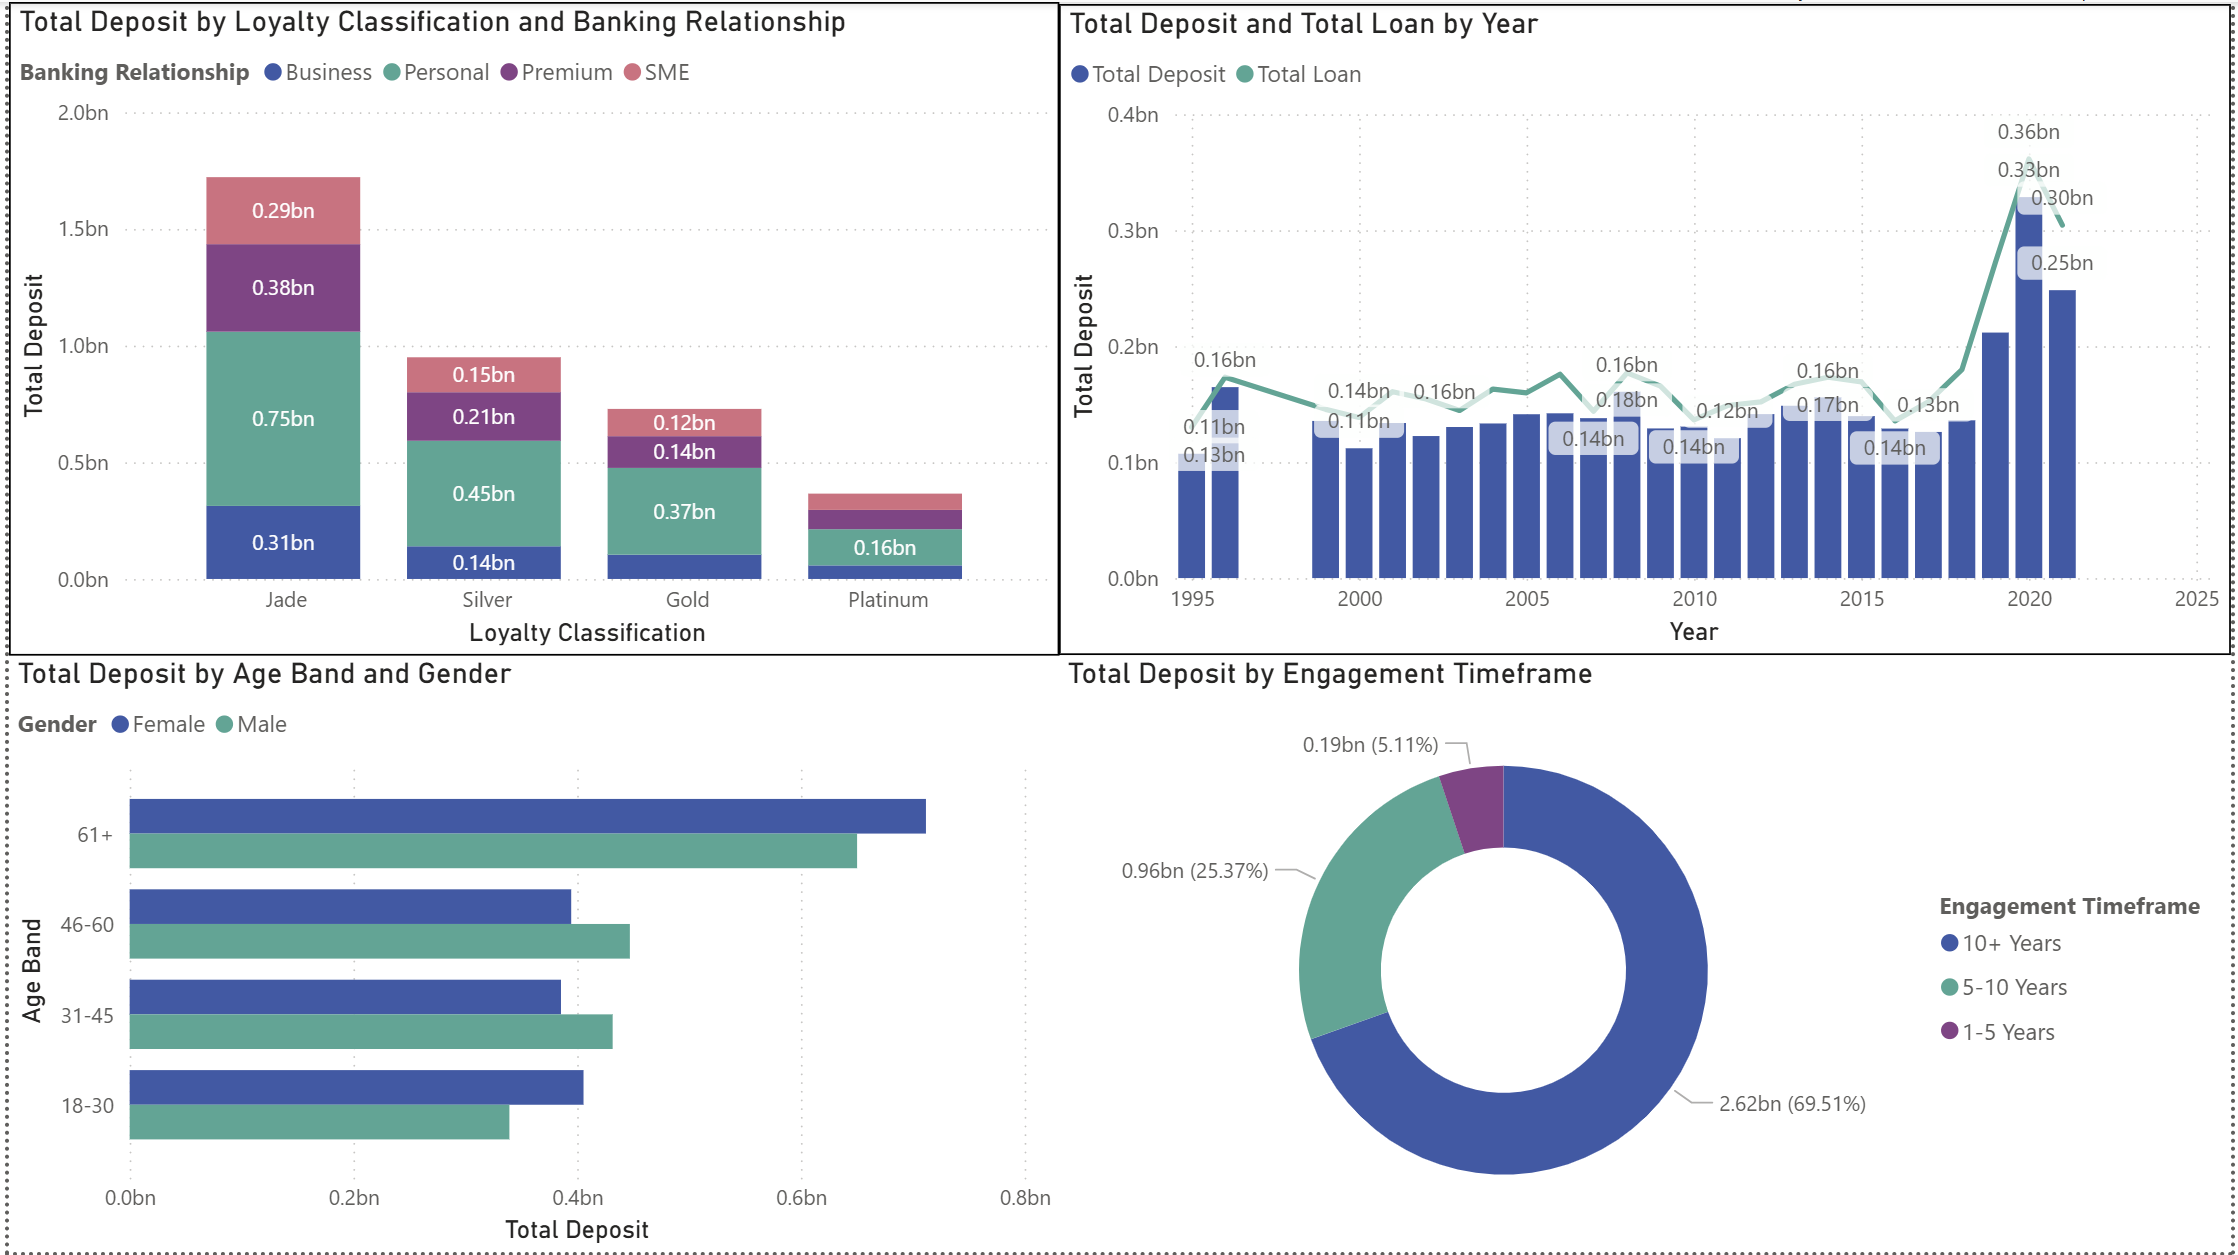

Layout of this report page (visuals, bound fields, positions):
{"tool":"powerbi","page":{"name":"Deposit Analysis 2","canvas":[1280,720],"ordinal":3},"visuals":[{"type":"columnChart","fields":{"Category":["Banking.Loyalty Classification"],"Y":["Banking.Total Deposit"],"Series":["Banking.Banking Relationship"]},"box":[0,0,605,376.7],"z":0},{"type":"lineClusteredColumnComboChart","fields":{"Category":["Banking.Year"],"Y":["Banking.Total Deposit"],"Y2":["Banking.Total Loan"]},"box":[605,1.7,675,375],"z":1000},{"type":"clusteredBarChart","fields":{"Category":["Banking.Age Band"],"Y":["Banking.Total Deposit"],"Series":["Banking.Gender"]},"box":[0,376.7,605,343.3],"z":2000},{"type":"donutChart","fields":{"Category":["Banking.Engagement Timeframe"],"Y":["Banking.Total Deposit"]},"box":[605,377,675,343],"z":3000}]}

Visuals, with their boxes in screenshot pixels (x1, y1, x2, y2), scaled from the page's 1280x720 canvas onto the 2238x1255 screenshot:
columnChart - Banking.Loyalty Classification x Banking.Total Deposit: box(0, 0, 1058, 657)
lineClusteredColumnComboChart - Banking.Year x Banking.Total Deposit: box(1058, 3, 2237, 657)
clusteredBarChart - Banking.Age Band x Banking.Total Deposit: box(0, 657, 1058, 1254)
donutChart - Banking.Engagement Timeframe x Banking.Total Deposit: box(1058, 657, 2237, 1254)
